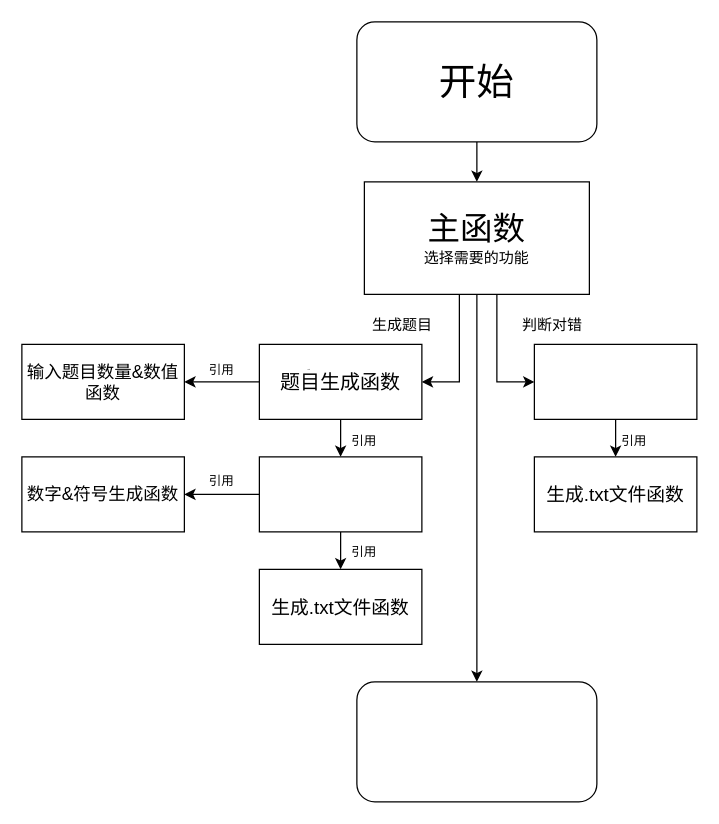
Image size: 719x824. Some labels were removed from this diagram. The shapes that lost their labels are listed below. From the top down, each one's box as (x1, y1, x2, y2) in pixels, then its label:
(533, 343, 697, 419): 判断对错函数
(258, 456, 422, 532): 生成四则算式函数
(356, 681, 597, 802): 结束
